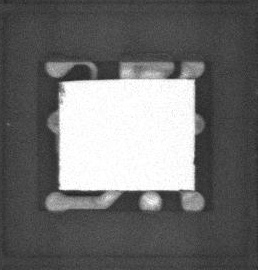DIE_INK: (58, 81, 67, 106)
